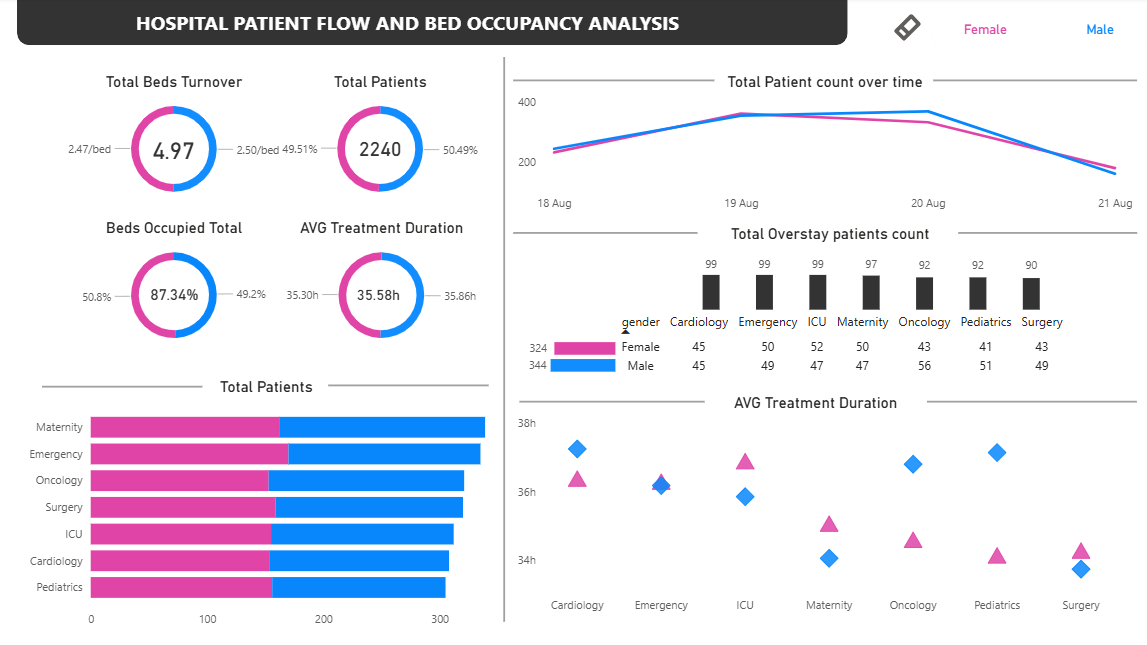

Layout of this report page (visuals, bound fields, positions):
{"tool":"powerbi","page":{"name":"Hoapital_Dashboard","canvas":[1280,720],"ordinal":0},"visuals":[{"type":"donutChart","fields":{"Y":["Sum(vw_patient_demographics.total_patients)"],"Category":["vw_patient_demographics.gender"]},"box":[281,82,290,150],"z":0},{"type":"lineChart","fields":{"Y":["Sum(vw_patient_volume_trend.patient_count)"],"Series":["vw_patient_volume_trend.gender"],"Category":["vw_patient_volume_trend.admission_date.Variation.Date Hierarchy.Year","vw_patient_volume_trend.admission_date.Variation.Date Hierarchy.Quarter","vw_patient_volume_trend.admission_date.Variation.Date Hierarchy.Month","vw_patient_volume_trend.admission_date.Variation.Date Hierarchy.Day"]},"box":[571.9,81.7,684.7,162.4],"z":1000},{"type":"barChart","fields":{"Category":["vw_department_inflow.department"],"Y":["Sum(vw_department_inflow.patient_count)"],"Series":["vw_department_inflow.gender"]},"box":[32,417,539,284],"z":2000},{"type":"pivotTable","fields":{"Values":["Sum(vw_overstay_patients.overstay_count)"],"Rows":["vw_overstay_patients.gender"],"Columns":["vw_overstay_patients.department"]},"box":[681,340,559,79],"z":3000},{"type":"donutChart","fields":{"Category":["vw_bed_turnover_rate.gender"],"Y":["Sum(vw_bed_turnover_rate.bed_turnover_rate)"]},"box":[55,82,290,150],"z":4000},{"type":"advancedSlicerVisual","fields":{"Values":["dim_patient.gender"]},"box":[1026,8,254,52],"z":5000},{"type":"scatterChart","fields":{"X":["vw_avg_treatment_duration.department"],"Y":["Sum(vw_avg_treatment_duration.avg_treatment_duration)"],"Series":["vw_avg_treatment_duration.gender"]},"box":[572,435,664,251],"z":6000},{"type":"clusteredBarChart","fields":{"Category":["vw_overstay_patients.gender"],"Y":["Sum(vw_overstay_patients.overstay_count)"]},"box":[584,357,105,70],"z":7000},{"type":"clusteredColumnChart","fields":{"Category":["vw_overstay_patients.department"],"Y":["Sum(vw_overstay_patients.overstay_count)"]},"box":[775,274,382,75],"z":8000},{"type":"card","fields":{"Values":["Sum(vw_patient_demographics.total_patients)"]},"box":[357,142,139,51],"z":9000},{"type":"card","fields":{"Values":["Sum(vw_bed_turnover_rate.bed_turnover_rate)"]},"box":[106,127,187,81],"z":10000},{"type":"donutChart","fields":{"Y":["Avg(vw_avg_treatment_duration.avg_treatment_duration)"],"Category":["vw_avg_treatment_duration.gender"]},"box":[282.1,243.3,290,150],"z":11000},{"type":"donutChart","fields":{"Series":["vw_bed_occupancy.gender"],"Y":["Sum(vw_bed_occupancy.bed_occupancy_percent)"]},"box":[55,243,290,150],"z":12000},{"type":"card","fields":{"Values":["Avg(vw_avg_treatment_duration.avg_treatment_duration)"]},"box":[369,302.2,114.4,52.2],"z":13000},{"type":"card","fields":{"Values":["Sum(vw_bed_occupancy.bed_occupancy_percent)"]},"box":[129.8,301.1,144.4,53.3],"z":14000},{"type":"shape","box":[27,0,912,53],"z":15000},{"type":"textbox","box":[659.5,250,520.4,29.2],"z":16000},{"type":"textbox","box":[27.4,8.2,857.6,38.4],"z":17000},{"type":"shape","box":[545,66,35,620],"z":18000},{"type":"shape","box":[368.6,417.3,176,18.5],"z":19000},{"type":"shape","box":[1060.2,250,196.5,18.5],"z":20000},{"type":"shape","box":[579.7,434.8,203.3,18.5],"z":21000},{"type":"shape","box":[55.4,418.2,176,18.5],"z":25000},{"type":"shape","box":[572.9,81.7,220.8,18.5],"z":26000},{"type":"shape","box":[1032.9,81.7,223.7,18.5],"z":27000},{"type":"shape","box":[572.9,250,202.3,18.5],"z":28000},{"type":"shape","box":[1026.1,434.8,230.5,18.5],"z":29000},{"type":"actionButton","box":[987.2,15.6,38.9,37],"z":30000}]}

Visuals, with their boxes in screenshot pixels (x1, y1, x2, y2), scaled from the page's 1280x720 canvas onto the 1147x645 screenshot:
donutChart - Sum(vw_patient_demographics.total_patients) x vw_patient_demographics.gender: (252, 73, 512, 208)
lineChart - Sum(vw_patient_volume_trend.patient_count) x vw_patient_volume_trend.gender: (512, 73, 1126, 219)
barChart - vw_department_inflow.department x Sum(vw_department_inflow.patient_count): (29, 374, 512, 628)
pivotTable - Sum(vw_overstay_patients.overstay_count) x vw_overstay_patients.gender: (610, 305, 1111, 375)
donutChart - vw_bed_turnover_rate.gender x Sum(vw_bed_turnover_rate.bed_turnover_rate): (49, 73, 309, 208)
advancedSlicerVisual - dim_patient.gender: (919, 7, 1146, 54)
scatterChart - vw_avg_treatment_duration.department x Sum(vw_avg_treatment_duration.avg_treatment_duration): (513, 390, 1108, 615)
clusteredBarChart - vw_overstay_patients.gender x Sum(vw_overstay_patients.overstay_count): (523, 320, 617, 383)
clusteredColumnChart - vw_overstay_patients.department x Sum(vw_overstay_patients.overstay_count): (694, 245, 1037, 313)
card - Sum(vw_patient_demographics.total_patients): (320, 127, 444, 173)
card - Sum(vw_bed_turnover_rate.bed_turnover_rate): (95, 114, 263, 186)
donutChart - Avg(vw_avg_treatment_duration.avg_treatment_duration) x vw_avg_treatment_duration.gender: (253, 218, 513, 352)
donutChart - vw_bed_occupancy.gender x Sum(vw_bed_occupancy.bed_occupancy_percent): (49, 218, 309, 352)
card - Avg(vw_avg_treatment_duration.avg_treatment_duration): (331, 271, 433, 317)
card - Sum(vw_bed_occupancy.bed_occupancy_percent): (116, 270, 246, 317)
shape: (24, 0, 841, 47)
textbox: (591, 224, 1057, 250)
textbox: (25, 7, 793, 42)
shape: (488, 59, 520, 615)
shape: (330, 374, 488, 390)
shape: (950, 224, 1126, 241)
shape: (519, 390, 702, 406)
shape: (50, 375, 207, 391)
shape: (513, 73, 711, 90)
shape: (926, 73, 1126, 90)
shape: (513, 224, 695, 241)
shape: (919, 390, 1126, 406)
actionButton: (885, 14, 919, 47)
